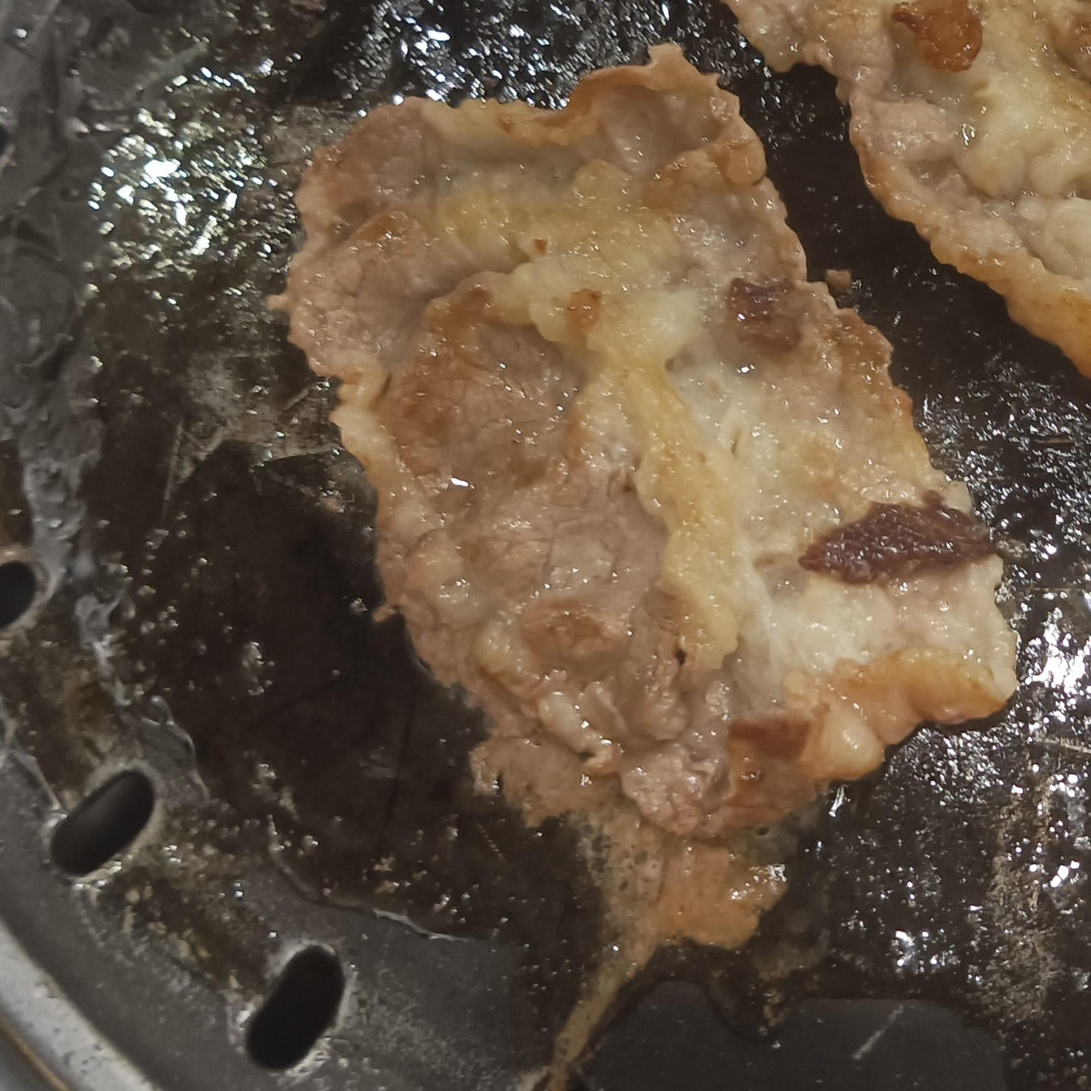Well-Cooked: (284, 50, 1020, 849), (728, 0, 1090, 386)
